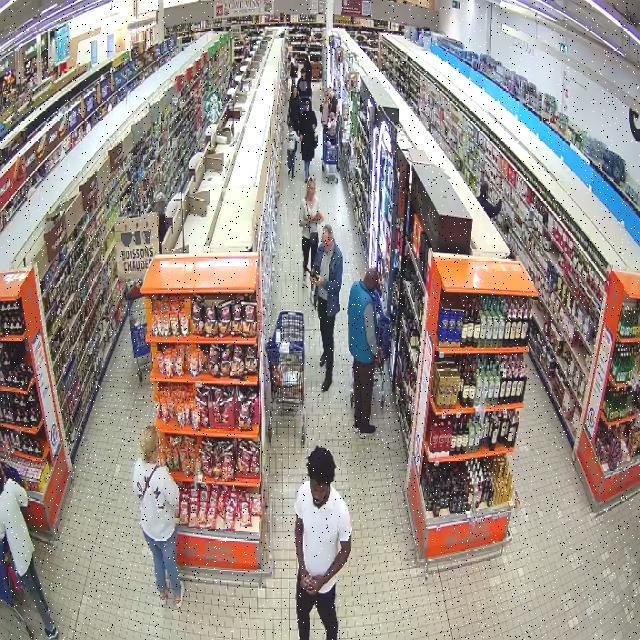article: (307, 268, 316, 278)
hands: (309, 575, 327, 594), (300, 567, 312, 591), (315, 276, 323, 286), (317, 213, 323, 222)
person: (295, 447, 351, 639), (0, 473, 57, 639), (133, 424, 184, 608), (347, 269, 380, 437), (309, 224, 342, 391), (299, 176, 323, 283)
